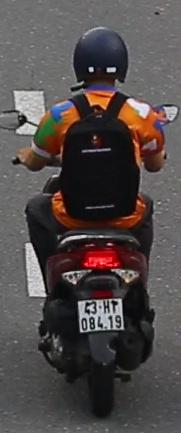LP: (76, 297, 127, 337)
helmet: (70, 24, 130, 94)
